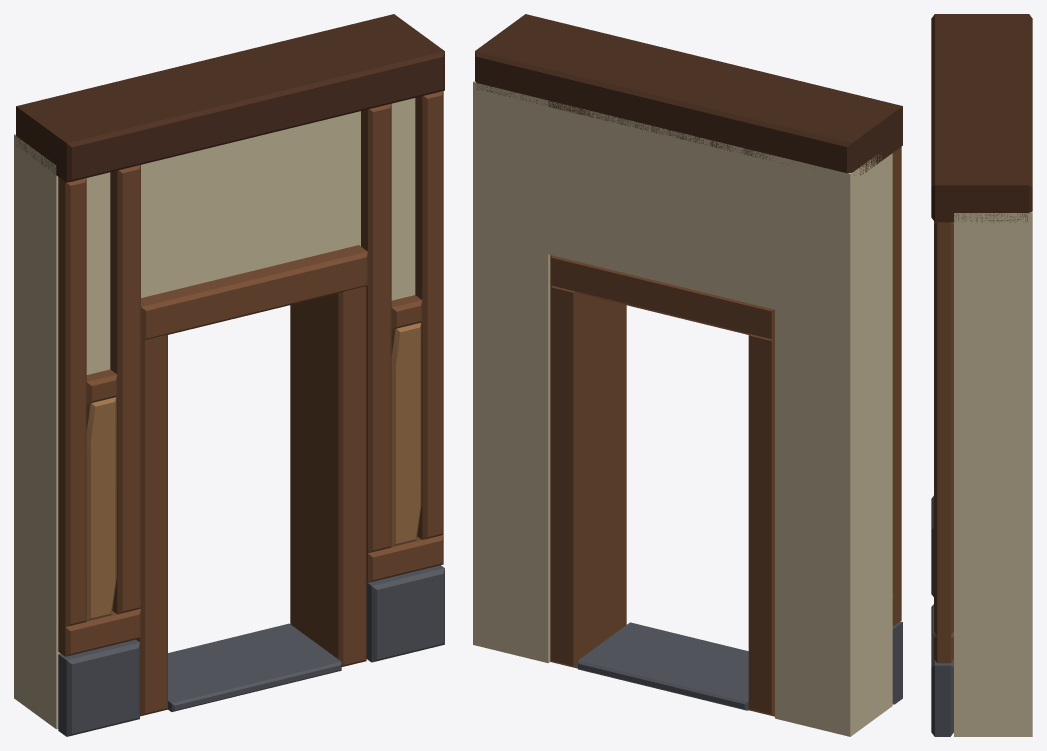
Rendered from WallDoor_09.glb.
3 views of the same model, side by side, from view 1: azimuth 30°, elevation 25°; view 2: azimuth 150°, elevation 25°; view 3: azimuth 270°, elevation 25° (orthographic). The views are drawn at different scales.
Visible parts, largest first — view 1: WallDoor_09; view 2: WallDoor_09; view 3: WallDoor_09.
Boxes of the visible parts, left/top/right/bottom form: WallDoor_09: left=14, top=14, right=444, bottom=736; WallDoor_09: left=473, top=14, right=902, bottom=736; WallDoor_09: left=931, top=14, right=1032, bottom=736.
Size of the model in its own units: 8 by 12 by 2.
